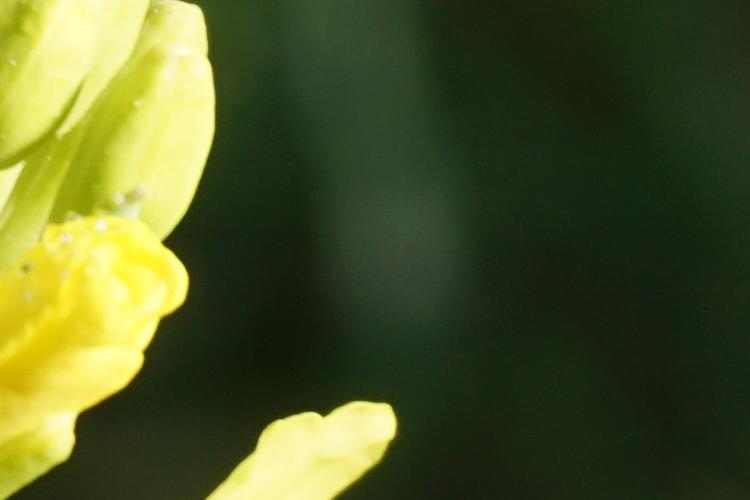bud: (43, 45, 220, 239)
yellow: (20, 222, 402, 500)
